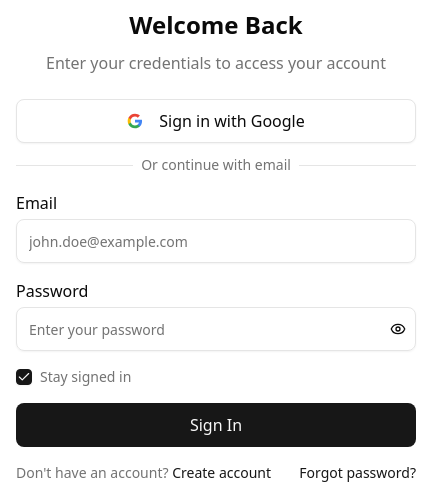
Test: LoginForm › switches to password reset view
This screenshot has width=433, height=500.
Click the button "Forgot password?". click: (358,473)
box: 299,463 -> 416,483
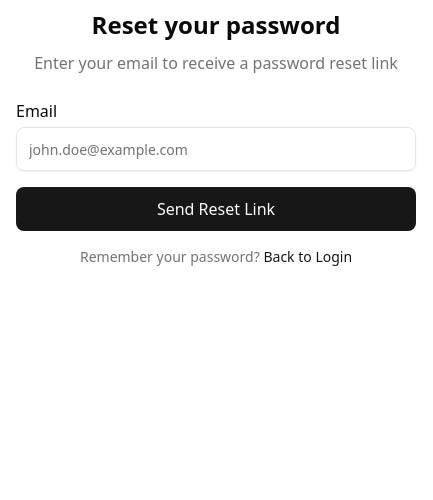
Expected: the button "Send Reset Link" is shown, 16,187 -> 416,231
